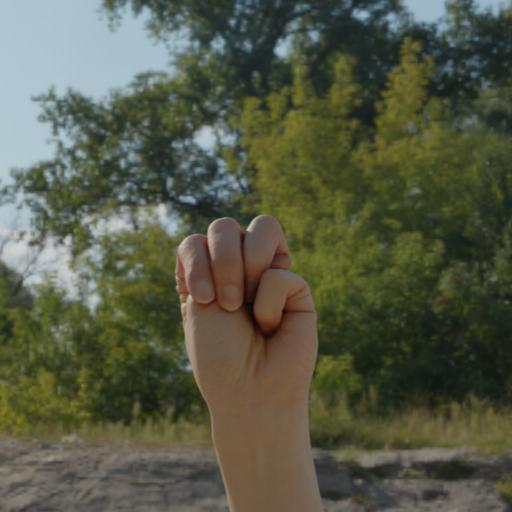M: (109, 171, 394, 449)
